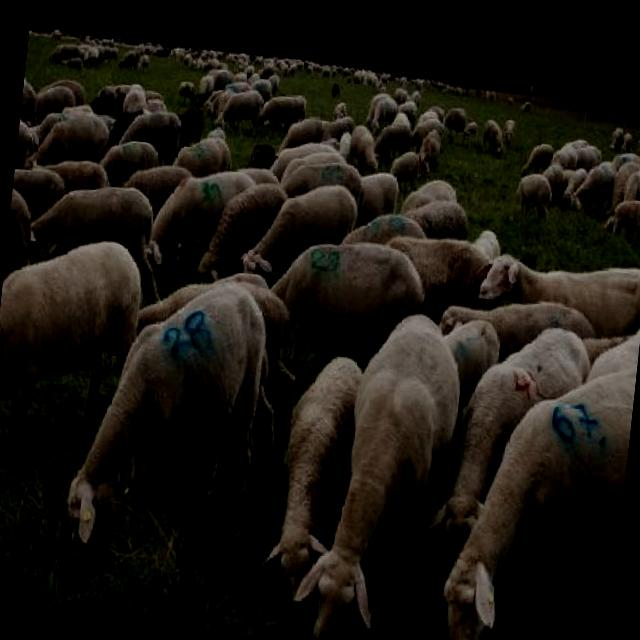Person: (527, 79, 533, 96)
